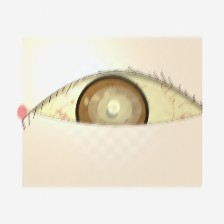corneal_ulcer: (87, 86, 143, 131)
